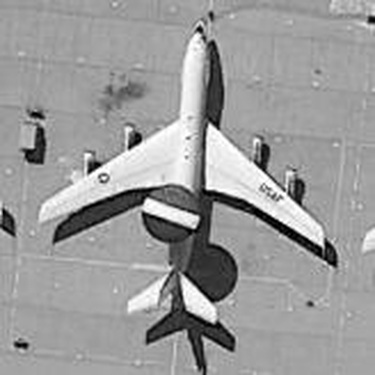airplane: (28, 10, 334, 331), (351, 209, 372, 275)
